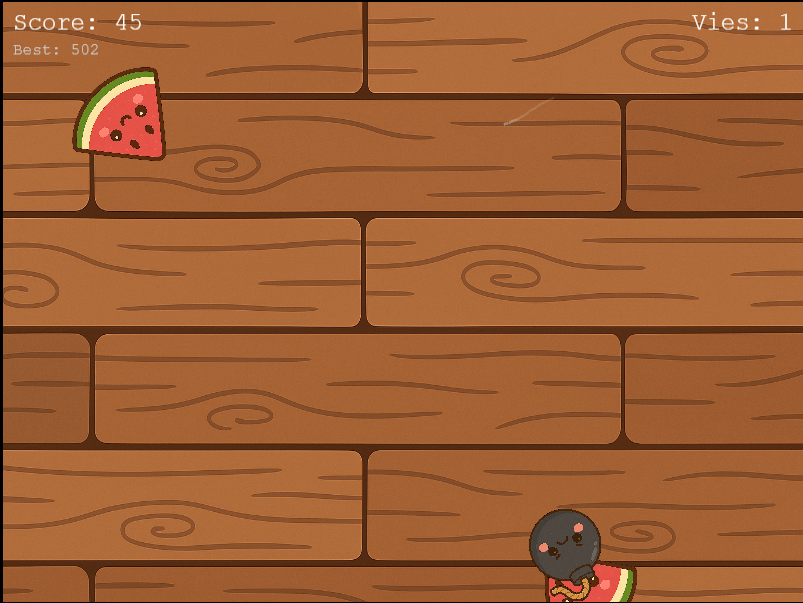bomb: (526, 507, 605, 601)
fruit: (65, 61, 180, 171), (542, 545, 640, 603)
